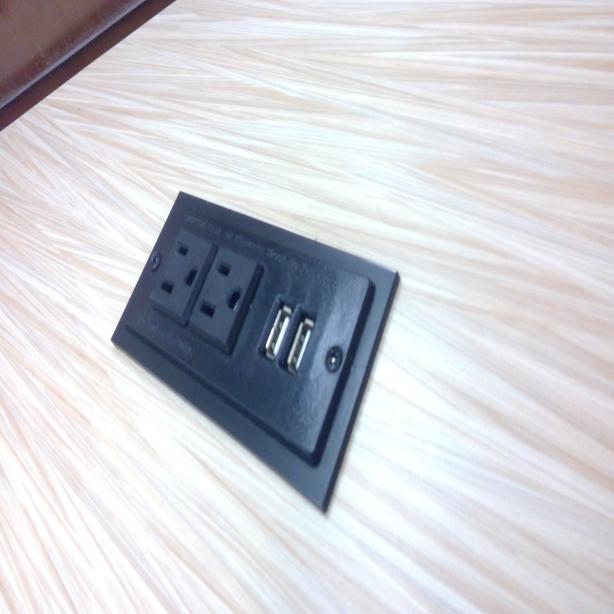typeb: (196, 247, 247, 324), (155, 239, 199, 306)
